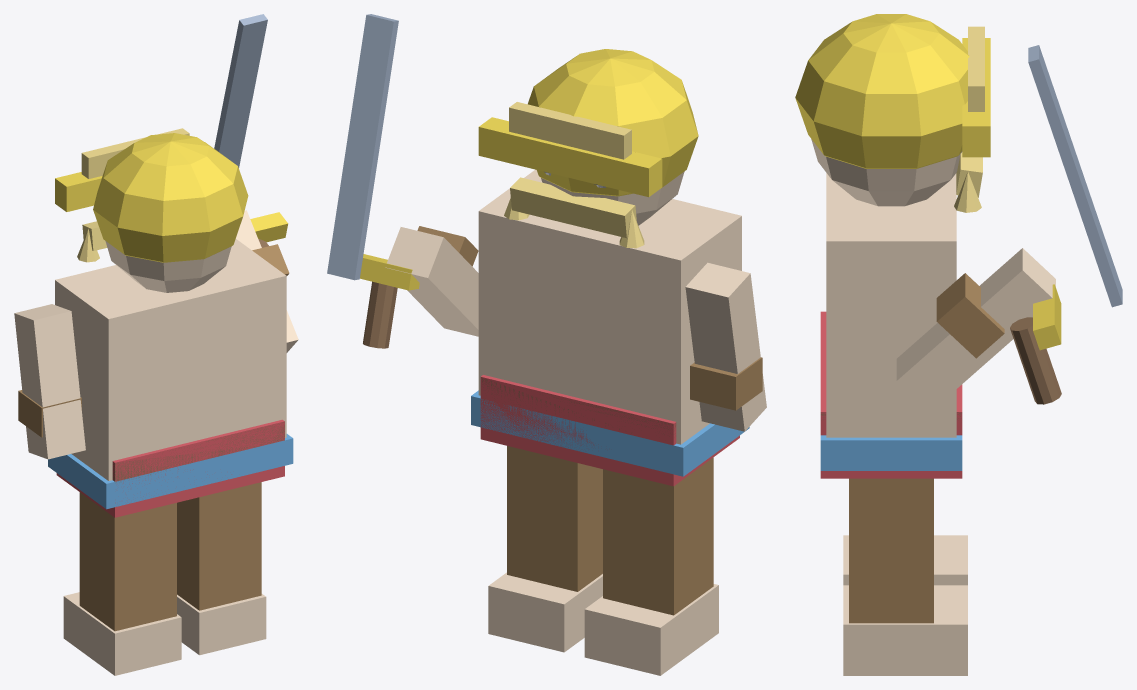
File: barbarians.glb
3 views of the same model, side by side, from view 1: azimuth 30°, elevation 25°; view 2: azimuth 150°, elevation 25°; view 3: azimuth 270°, elevation 25° (orthographic). The views are drawn at different scales.
Visible parts, largest first — view 1: barbarians; view 2: barbarians; view 3: barbarians.
Part boxes in pixels (left/top/right/bottom): barbarians: left=14, top=14, right=298, bottom=675; barbarians: left=327, top=14, right=766, bottom=675; barbarians: left=795, top=14, right=1122, bottom=675.
Bounding box in the file's own units: 1.52 × 2.58 × 1.16.
